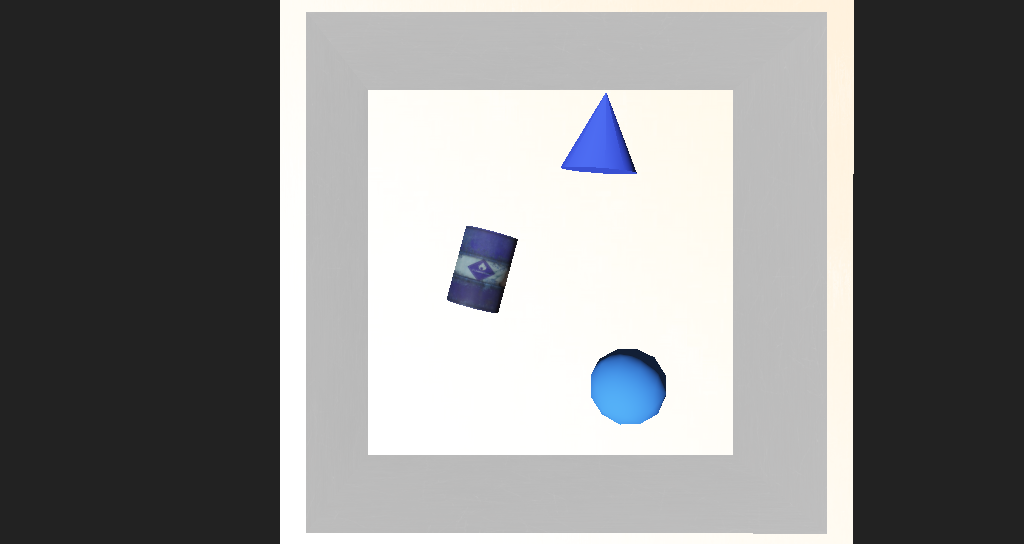cone: (421, 241, 482, 293)
cylinder: (512, 155, 579, 217)
sphere: (532, 310, 600, 358)
